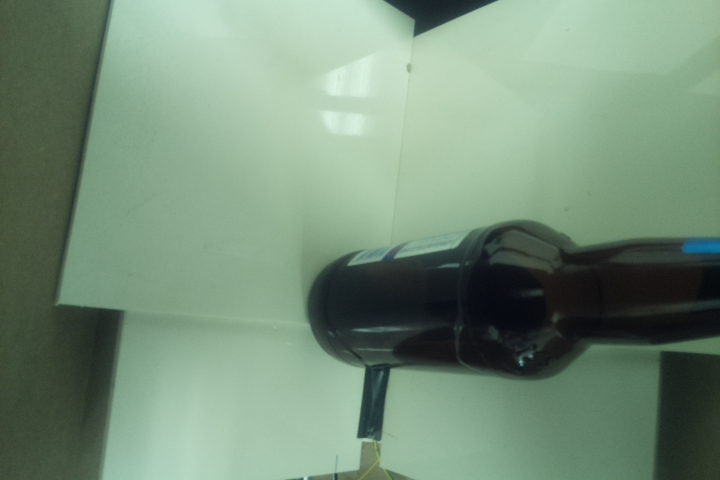makju: (306, 216, 720, 383)
